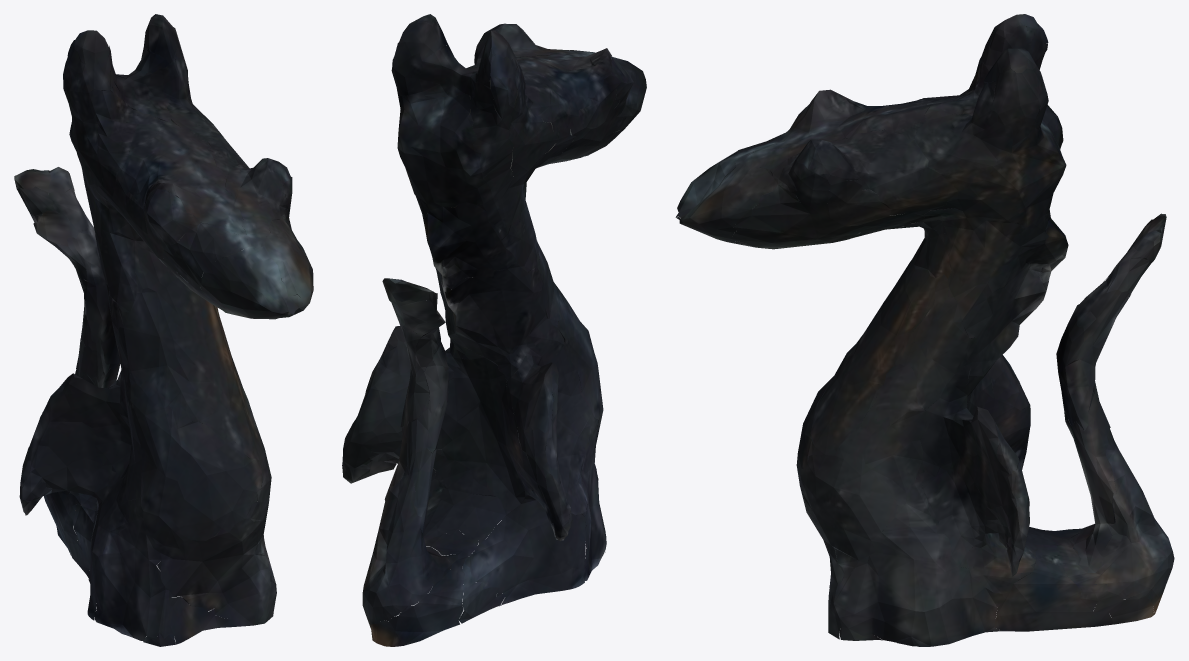
The model's file is Toothless1 Bake.glb.
3 views of the same model, side by side, from view 1: azimuth 30°, elevation 25°; view 2: azimuth 150°, elevation 25°; view 3: azimuth 270°, elevation 25° (orthographic). The views are drawn at different scales.
Visible parts, largest first — view 1: Mesh_0; view 2: Mesh_0; view 3: Mesh_0.
Part boxes in pixels (x1,y1,x2,y2): Mesh_0: (14, 14, 313, 646); Mesh_0: (342, 14, 646, 646); Mesh_0: (675, 14, 1174, 646).
Bounding box in the file's own units: 0.2155 × 0.5177 × 0.4054.
Materials: 1 (1 with a texture image).
